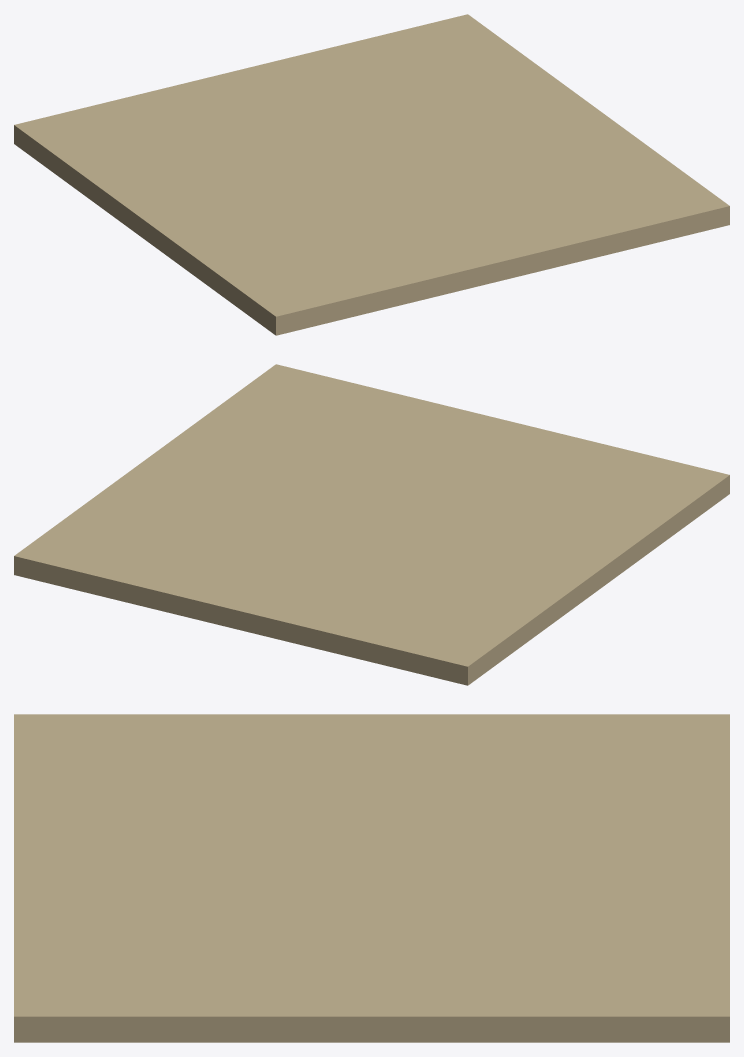
The model's file is wet_shoreline_sand_tile_tropical_island_and_palm_trees_6834.glb.
3 renders of one model, top to bottom at view 1: azimuth 30°, elevation 25°; view 2: azimuth 150°, elevation 25°; view 3: azimuth 270°, elevation 25°, orthographic. The views are drawn at different scales.
Visible parts, largest first — view 1: wet-sand-tile; view 2: wet-sand-tile; view 3: wet-sand-tile.
Boxes of the visible parts, box(x1,y1,x2,y2) form: wet-sand-tile: box(14, 14, 729, 335); wet-sand-tile: box(14, 364, 729, 685); wet-sand-tile: box(14, 714, 729, 1042).
Bounding box in the file's own units: 4 × 0.1602 × 4.
